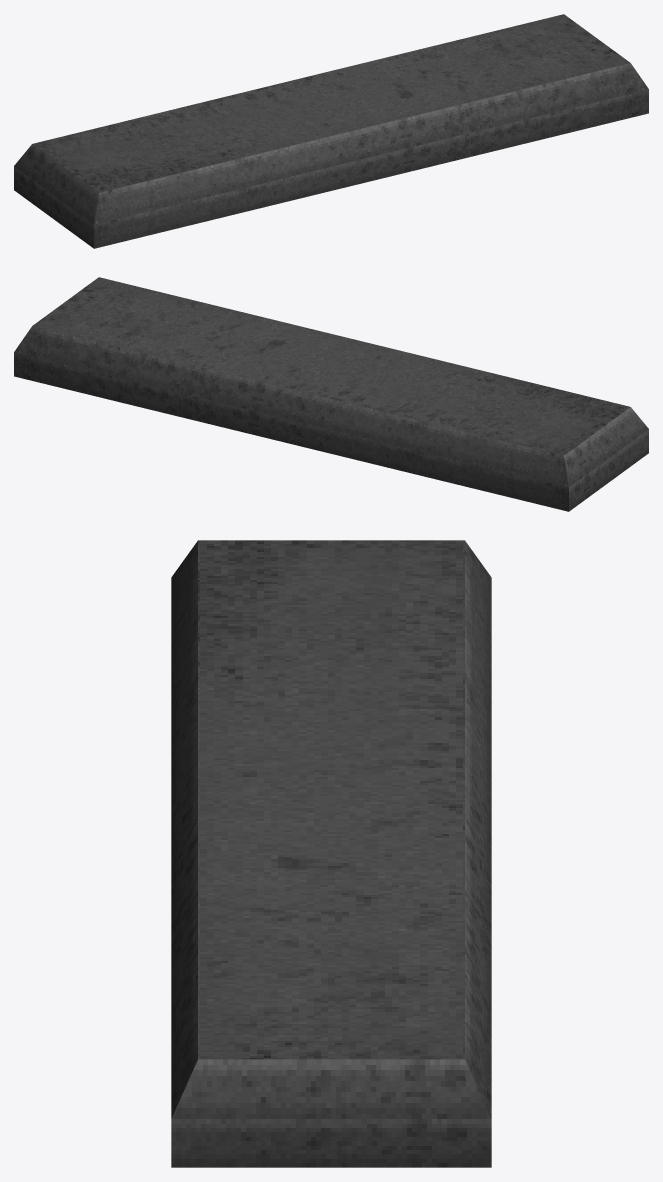
File: ceiling_lamp_4_on.glb
3 renders of one model, top to bottom at view 1: azimuth 30°, elevation 25°; view 2: azimuth 150°, elevation 25°; view 3: azimuth 270°, elevation 25°, orthographic. The views are drawn at different scales.
Parts seen in each view (by area): view 1: ceiling_lamp_4_on; view 2: ceiling_lamp_4_on; view 3: ceiling_lamp_4_on.
Part boxes in pixels (bbox=[...]): ceiling_lamp_4_on: bbox=[14, 14, 648, 248]; ceiling_lamp_4_on: bbox=[14, 277, 648, 511]; ceiling_lamp_4_on: bbox=[171, 540, 491, 1167].
Size of the model in its own units: 1.2 by 0.1 by 0.3.
1 material, 1 textured.
